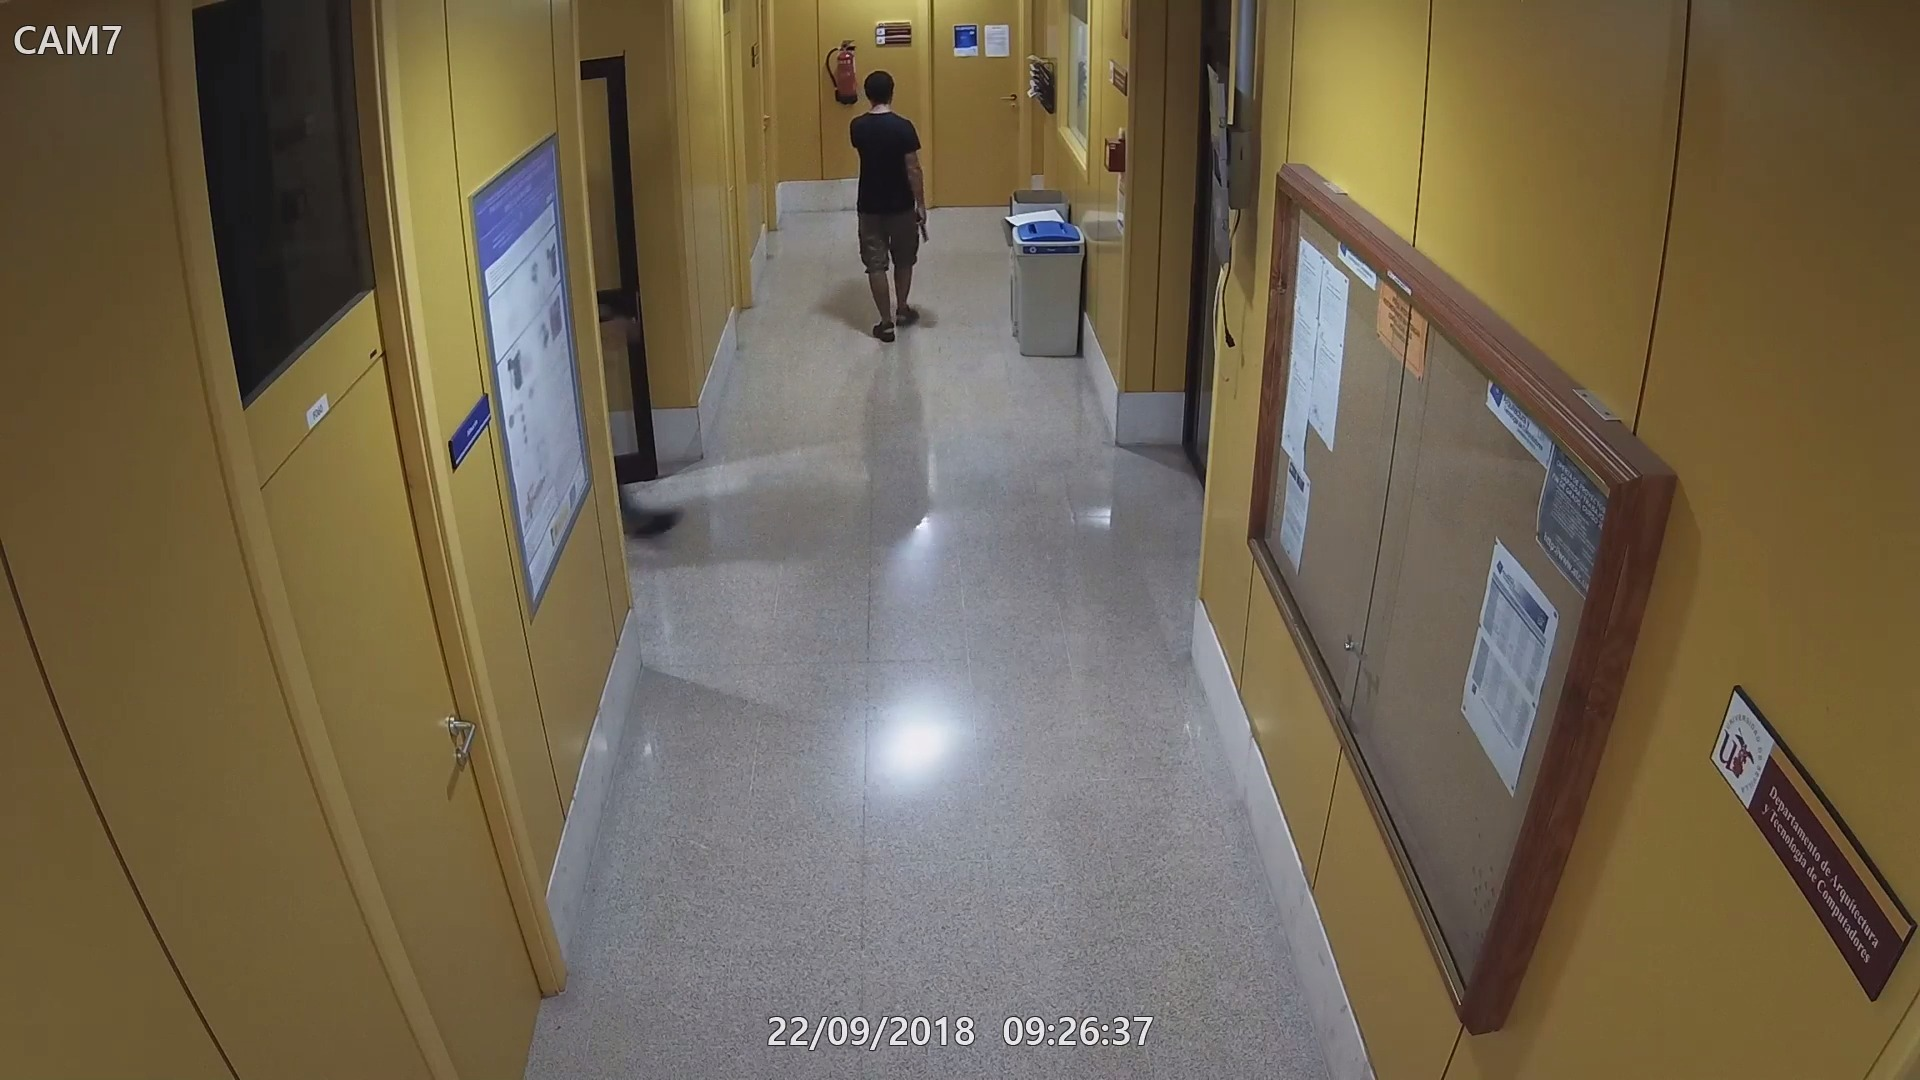Handgun: (907, 203, 934, 243)
